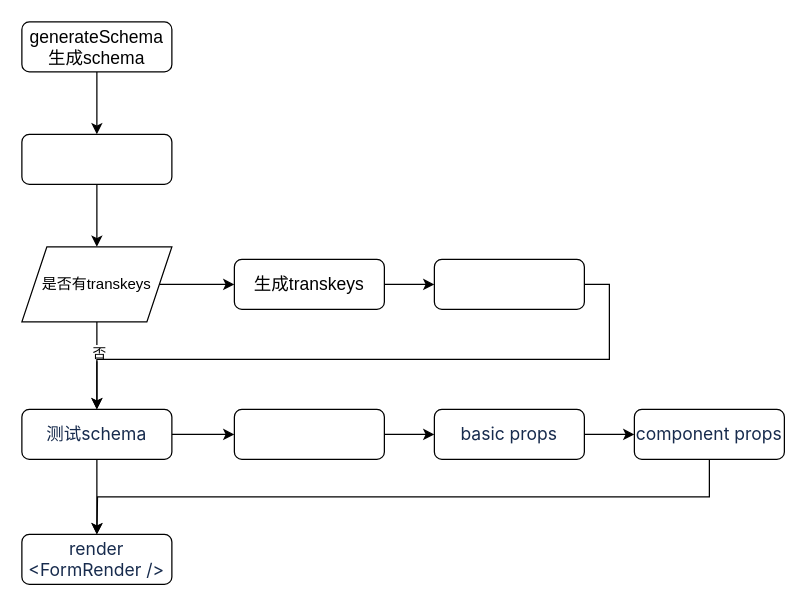
Some shapes in this 806 by 606 pixel diagram are drawn without their labels. Each missing label, with the centre of its shape:
defaultSchame: (x=308, y=433)
geneFormKey生成key: (x=96, y=158)
测试transkeys: (x=508, y=283)
